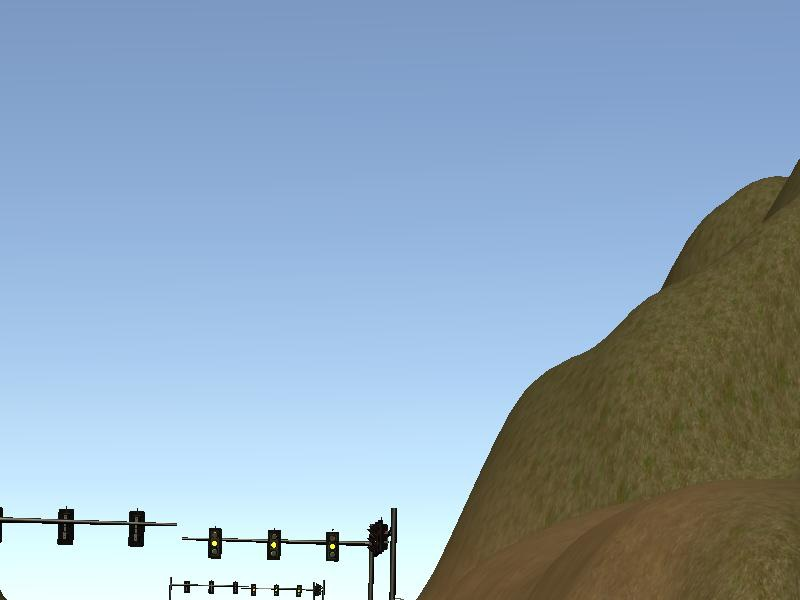yellow_light: (325, 533, 339, 562), (267, 531, 280, 561), (209, 527, 221, 556)
